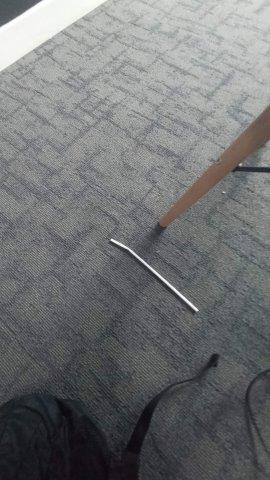sedotan: (110, 239, 199, 313)
